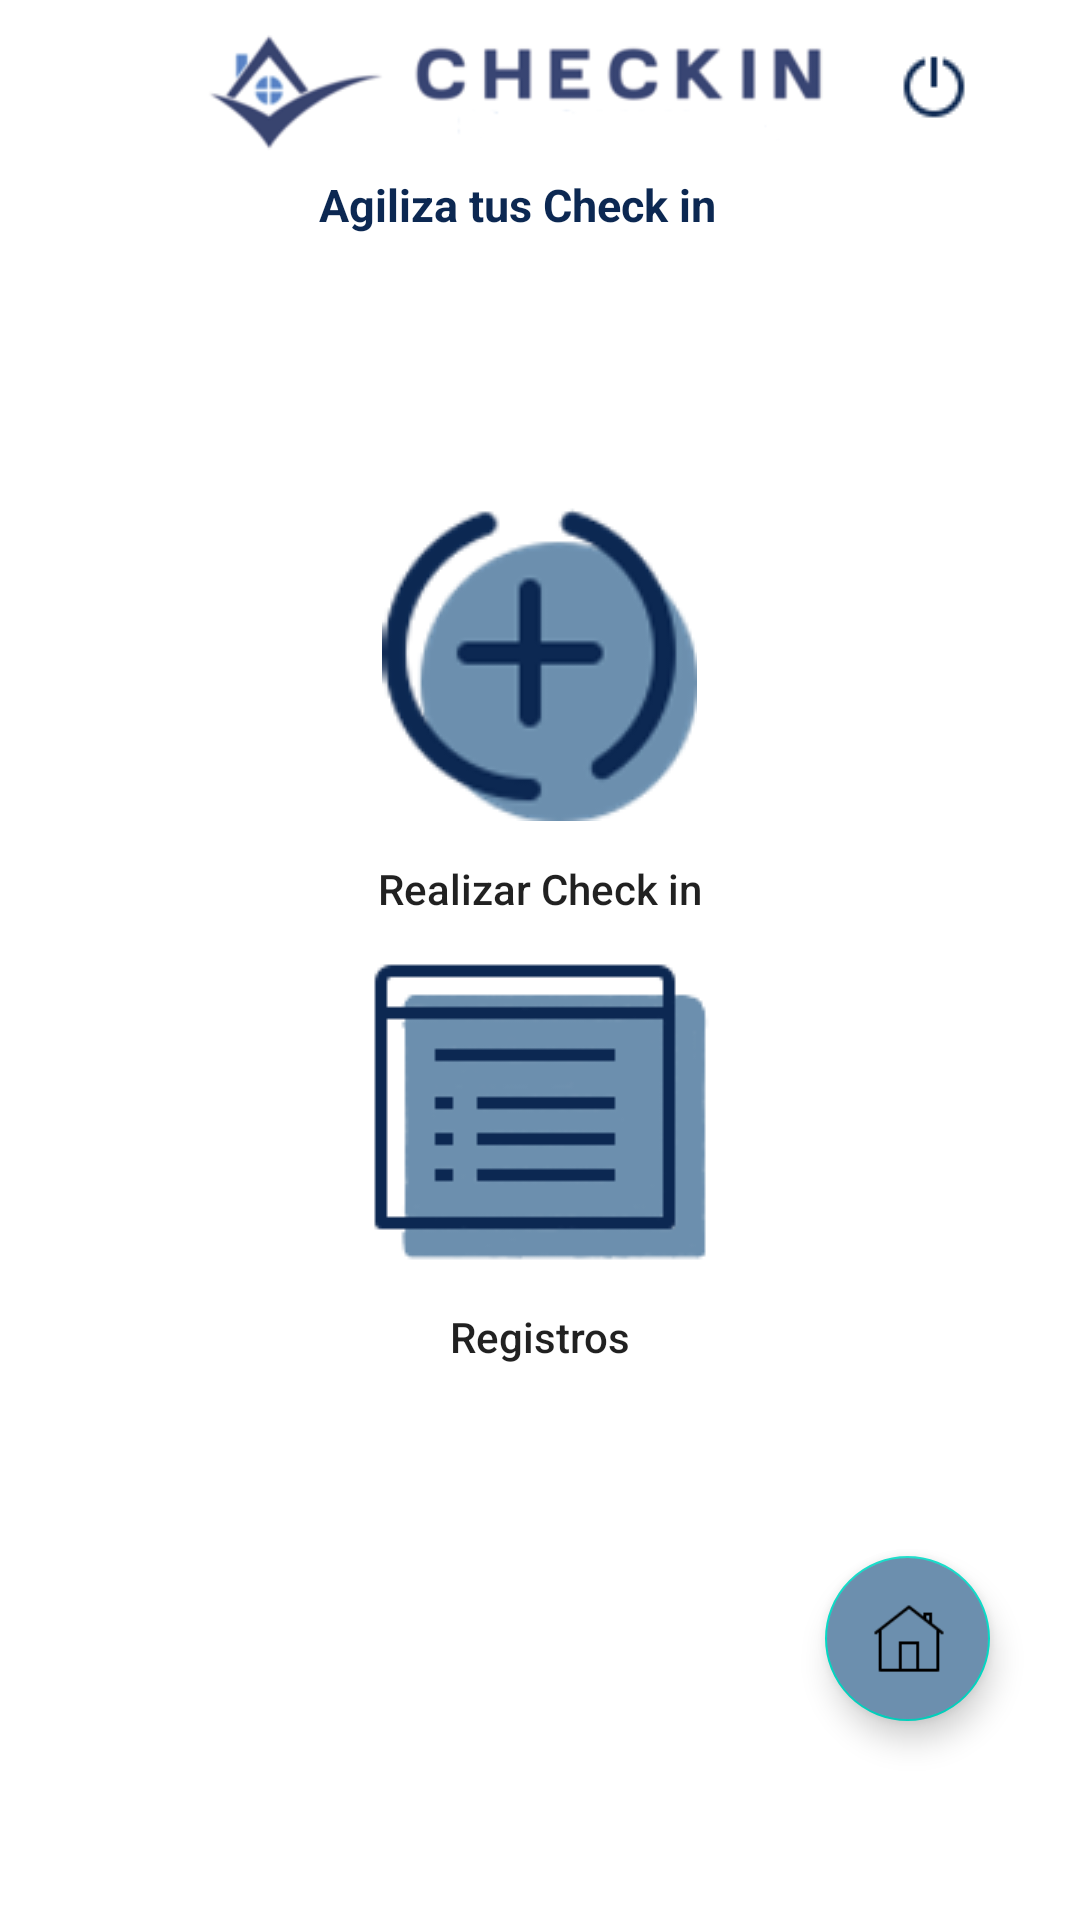

Icon click points for this 1080 × 1920 phone screenshot, format (x,y):
apagar: (934,87)
casa: (907,1638)
